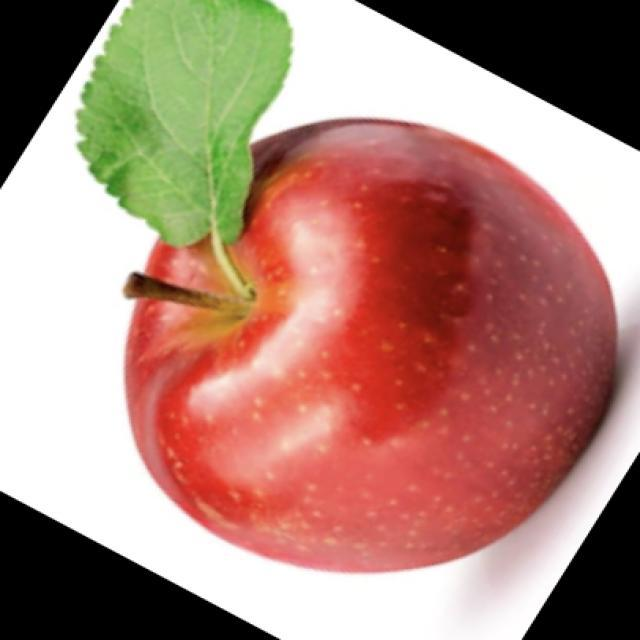Fresh Apple: (130, 120, 602, 640)
